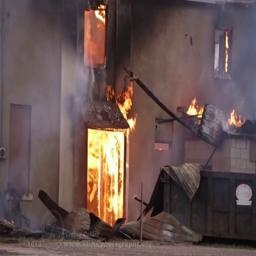fire: (87, 127, 128, 215), (85, 6, 107, 67)
